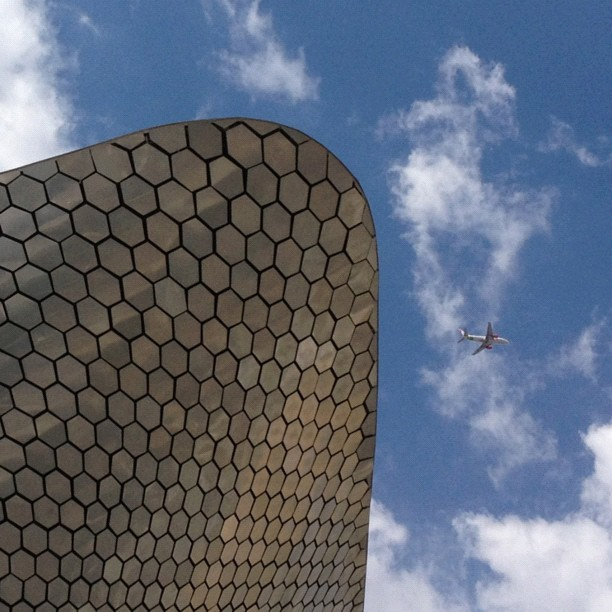plane: (446, 319, 509, 361)
sky: (370, 1, 612, 606), (1, 1, 612, 123)
